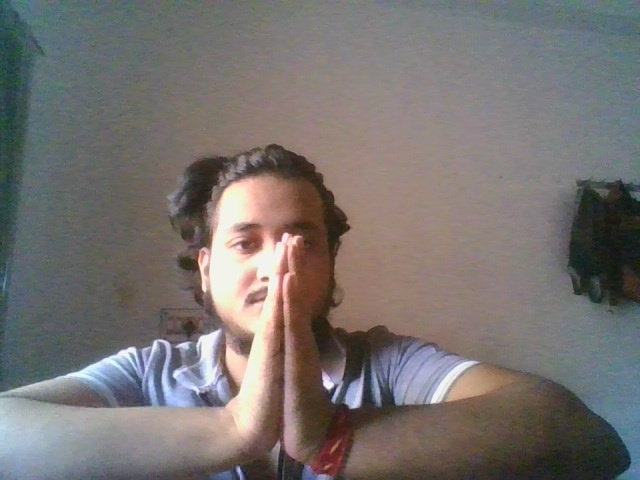ThankYou: (241, 231, 320, 461)
